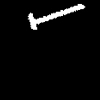half_double_crochet: (28, 4, 84, 29)
